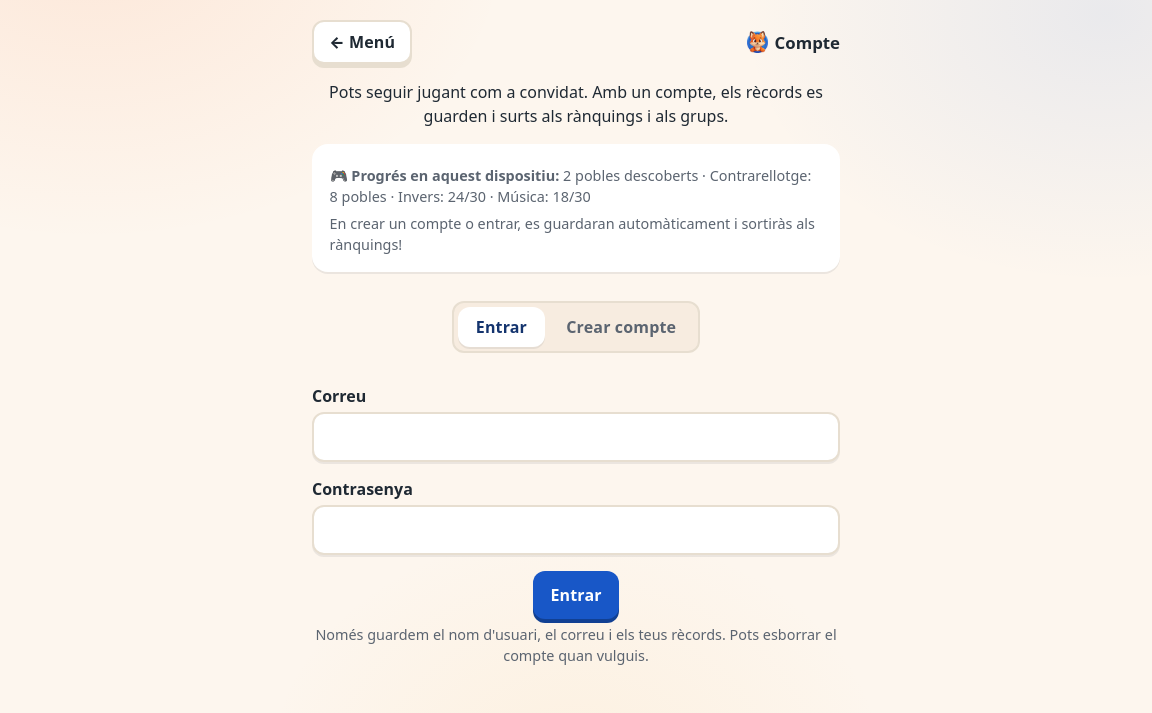
Test: AccountScreen component › com a convidat (sense sessió) › mostra error si el nom d'usuari o contrasenya no compleixen els requisits
Click the tab "Crear compte".
click(621, 327)  # box [549, 307, 694, 347]
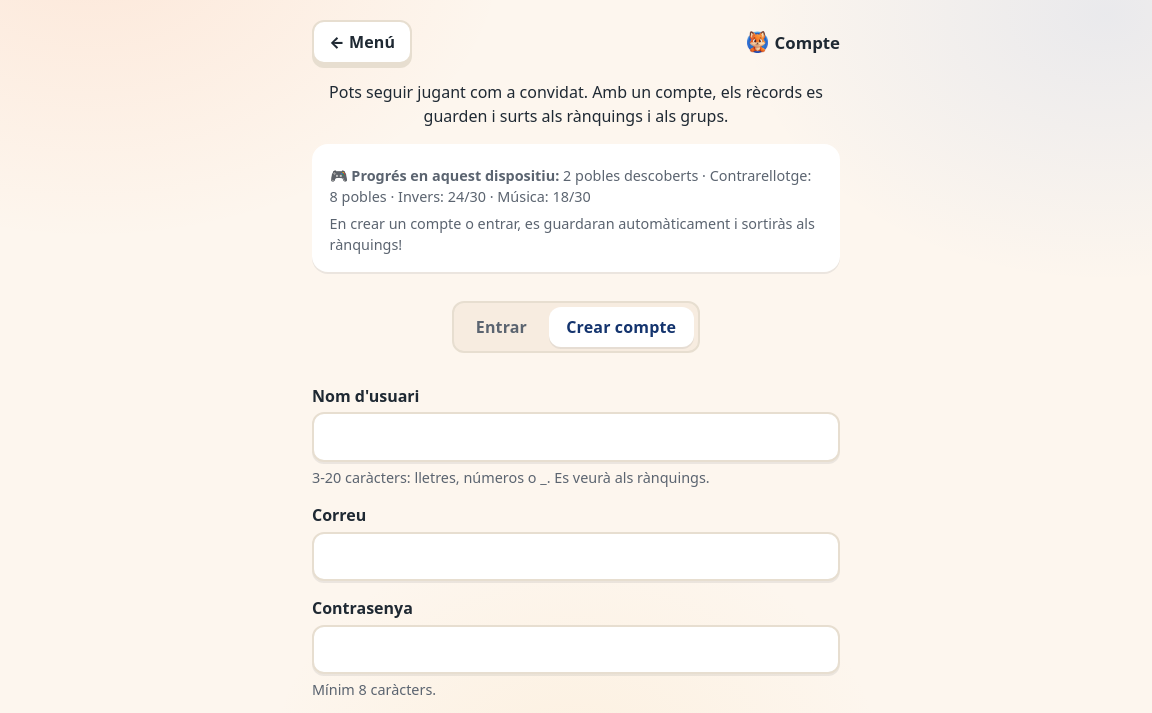
Type "ab" into the field labelled "Nom d'usuari".
click(576, 437); type("ab")  # box [312, 412, 840, 462]
Type "a@b.cat" into the field labelled "Correu".
click(576, 556); type("a@b.cat")  # box [312, 532, 840, 581]
Type "12345678" into the password field labelled "Contrasenya".
click(576, 650); type("12345678")  # box [312, 625, 840, 674]
(page scrolled)
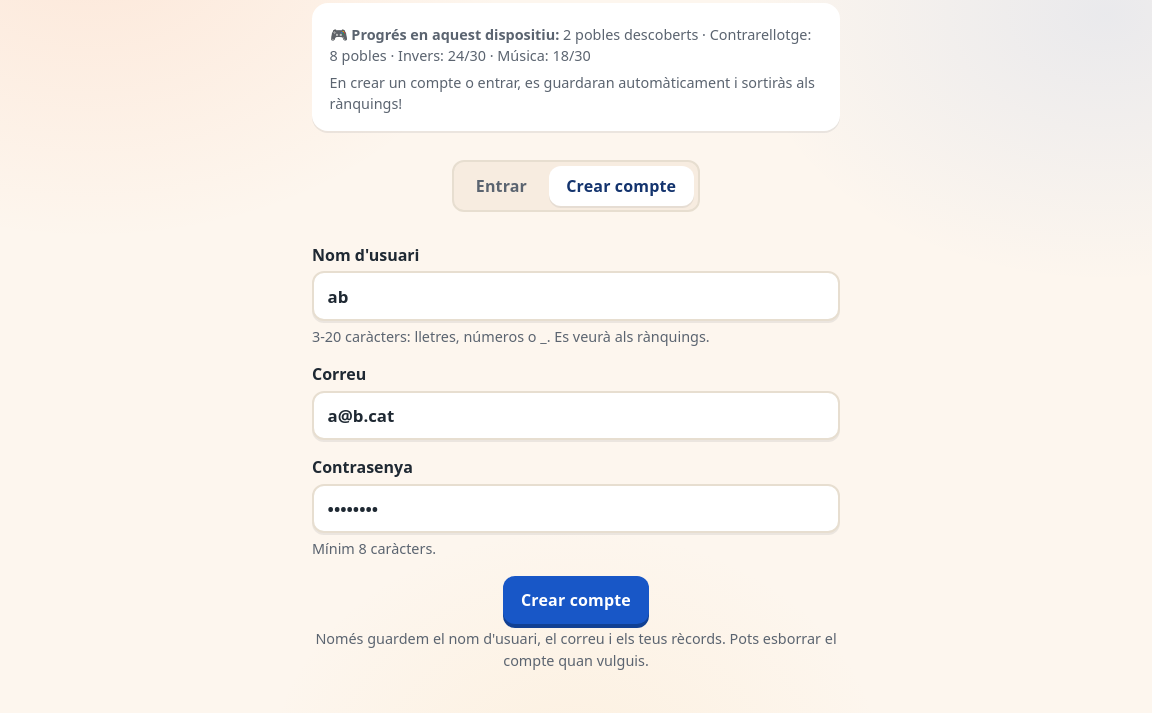
Click the button "Crear compte".
click(576, 600)  # box [503, 576, 649, 624]
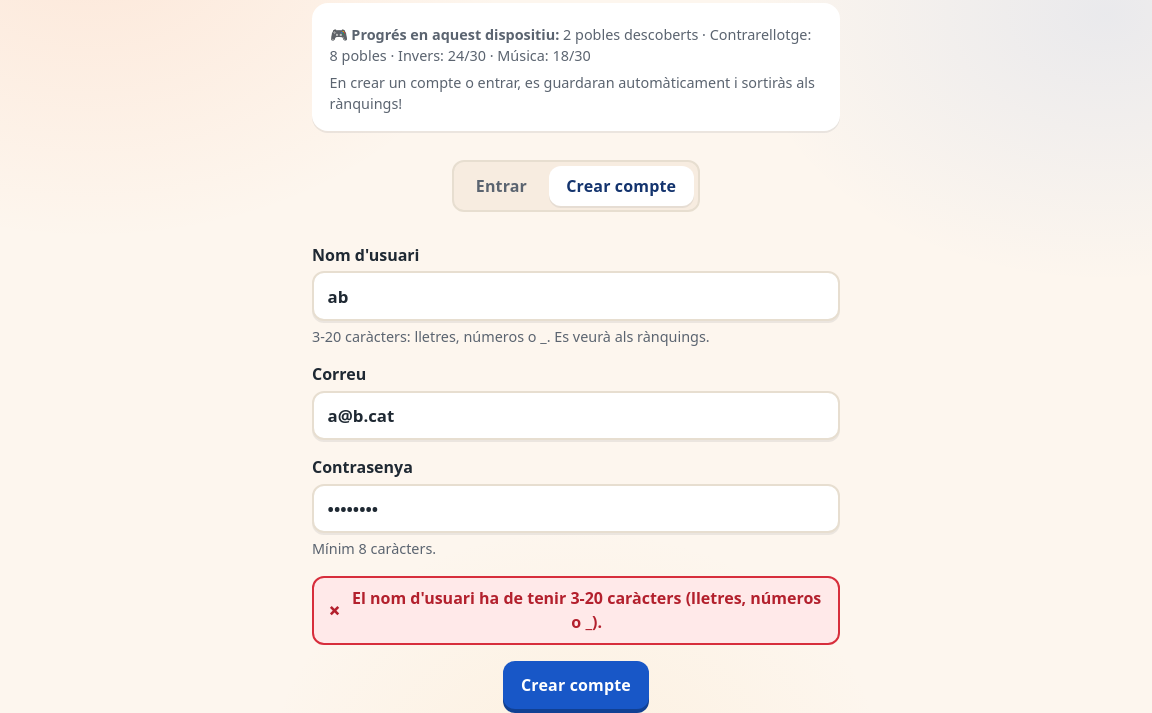
Result: the message shows "El nom d'usuari ha de tenir 3-20 caràcters" at [352, 587, 821, 633]
Replace the text in the field labelled "Nom d'usuari" with "usuari_bo" at [576, 296], box [312, 271, 840, 321]
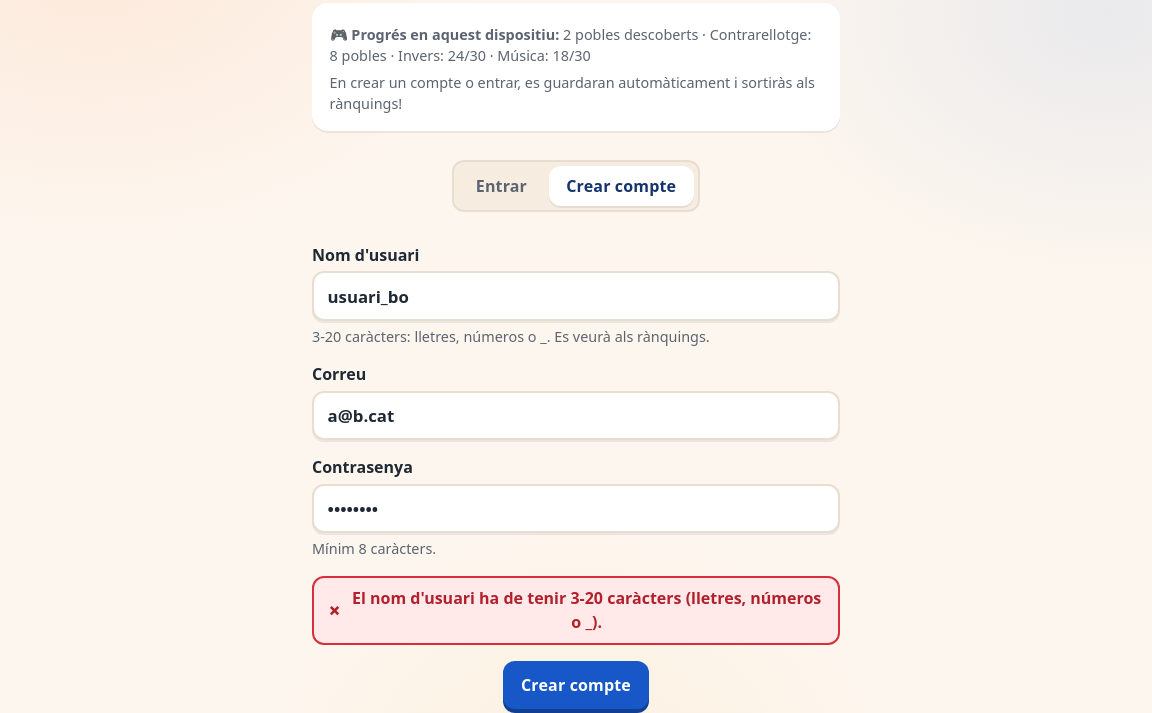
Type "curta" into the password field labelled "Contrasenya".
click(576, 508); type("curta")  # box [312, 484, 840, 533]
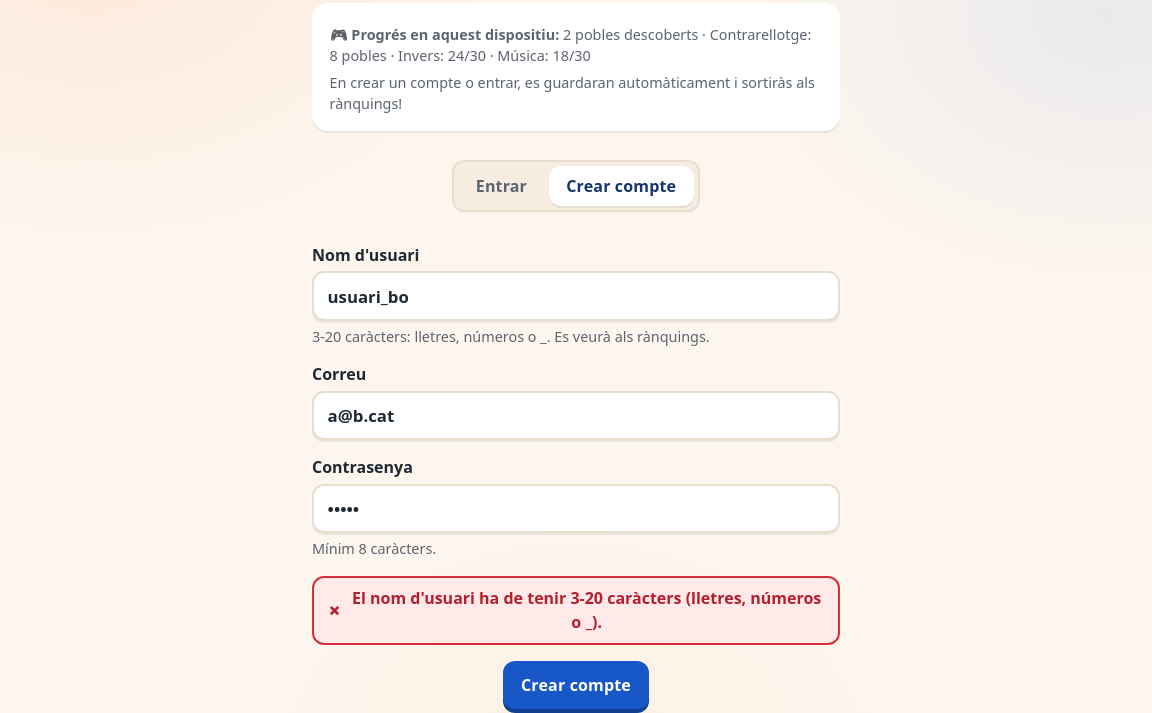
Click the button "Crear compte".
click(576, 685)  # box [503, 661, 649, 709]
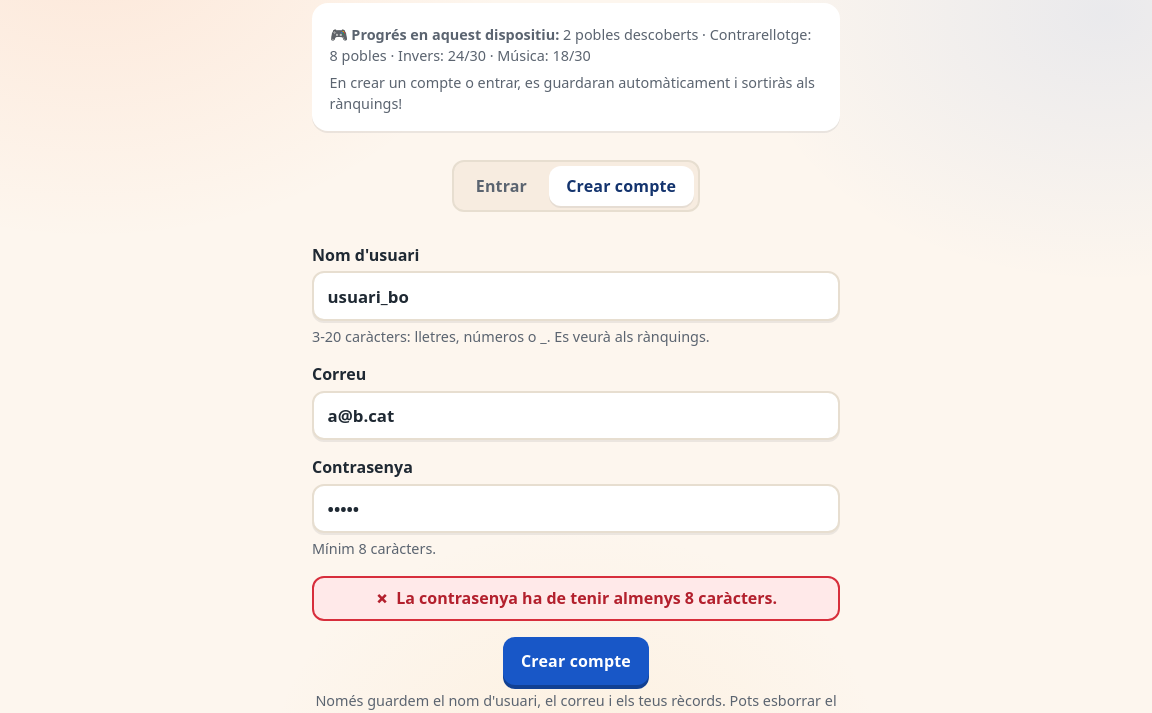
Result: the message shows "La contrasenya ha de tenir almenys 8 caràcters" at [396, 587, 777, 609]
